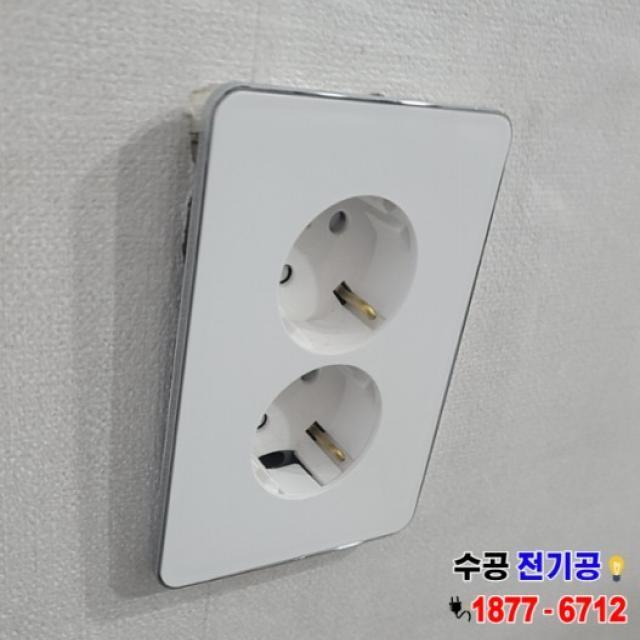typeb: (56, 7, 496, 587)
